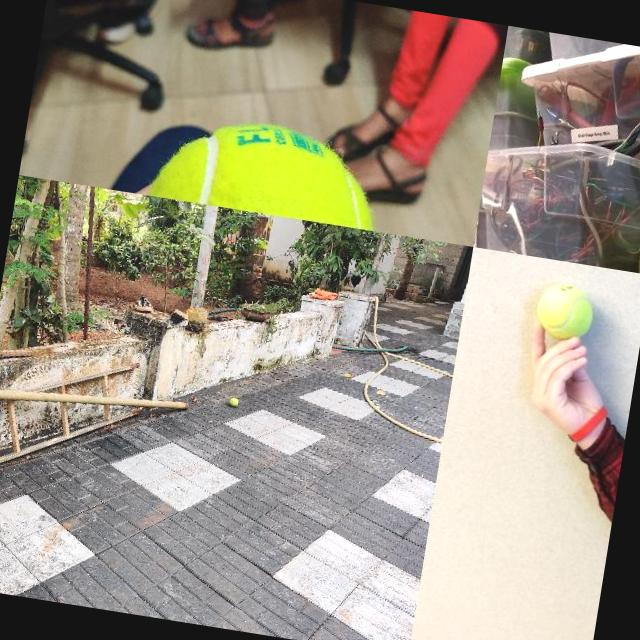Tennis Ball: (144, 109, 390, 231), (532, 280, 598, 342), (228, 397, 238, 406)
